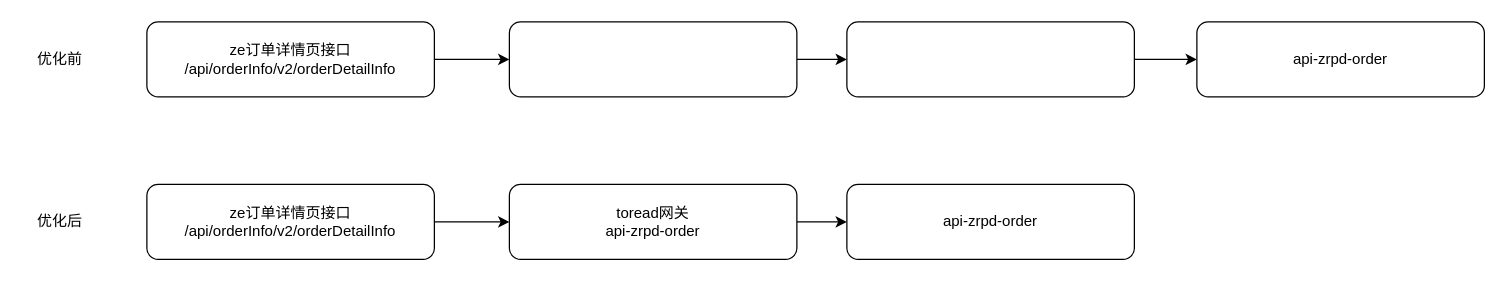
Some shapes in this 1506 by 281 pixel diagram are drawn without their labels. Here are the shapes that lost their labels. From the top down, the centre of each, then its label:
the point at 652,59: toread网关 zrpdw
the point at 990,59: 家装内部网关 jz-gateway
